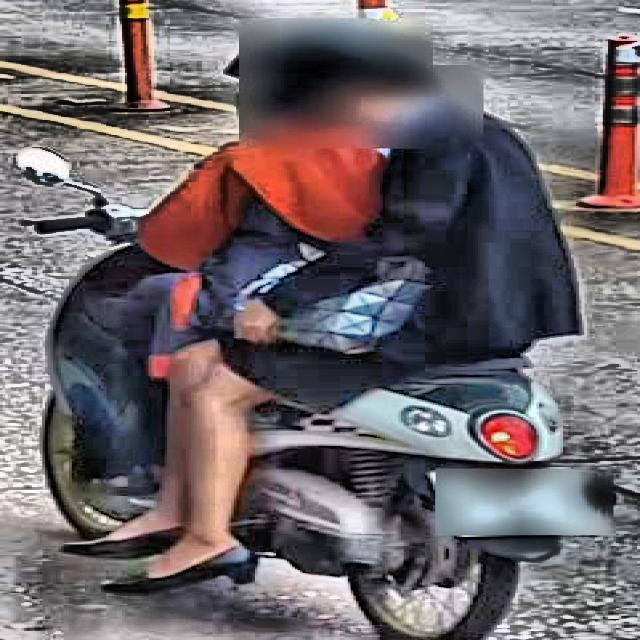motorcycle: (10, 146, 570, 640)
